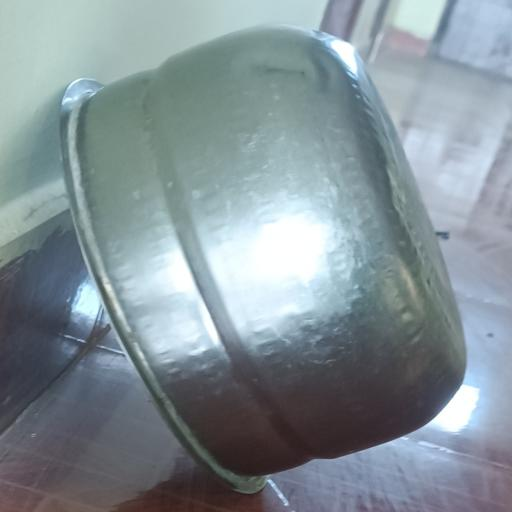vessel: (61, 27, 465, 492)
